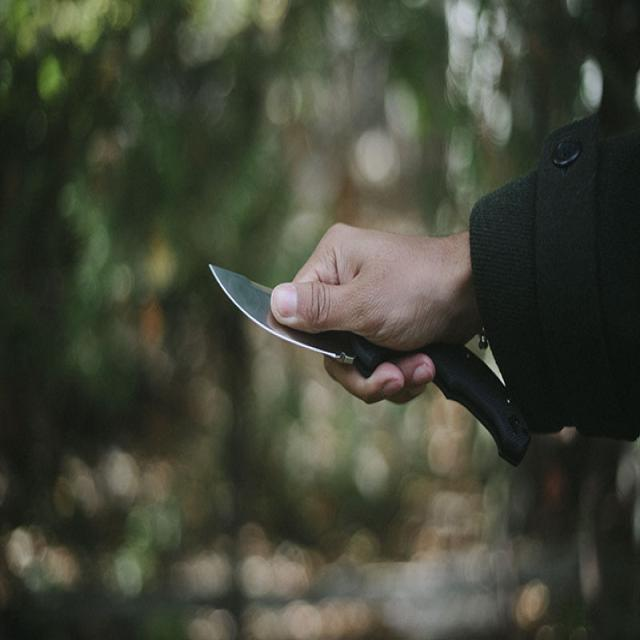knife: (206, 260, 536, 470)
